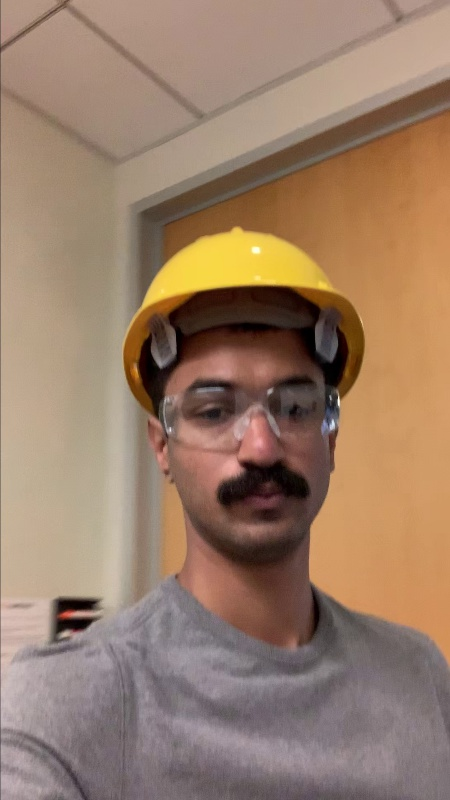glasses: (153, 388, 343, 443)
helmet: (142, 225, 347, 289)
